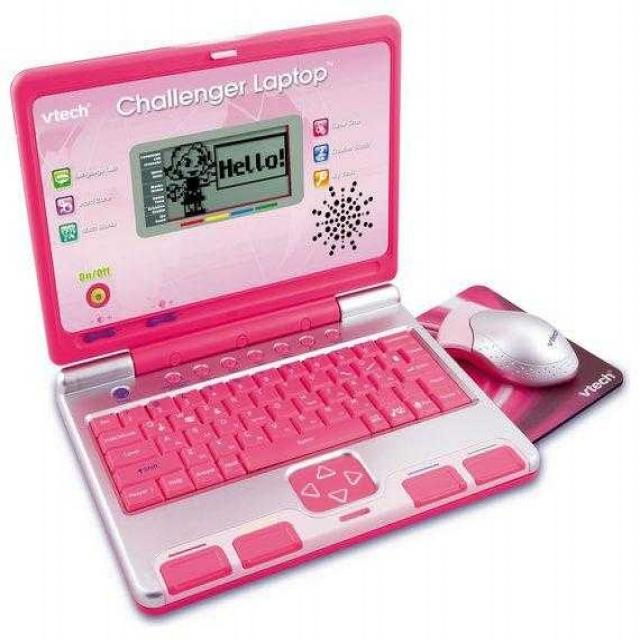laptop: (50, 82, 498, 566)
